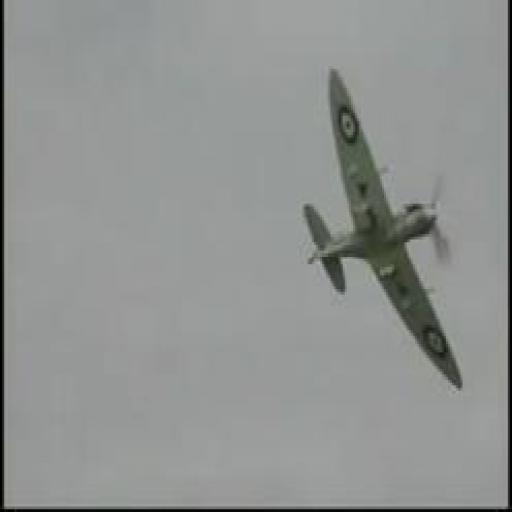aircraft: (302, 65, 466, 392)
